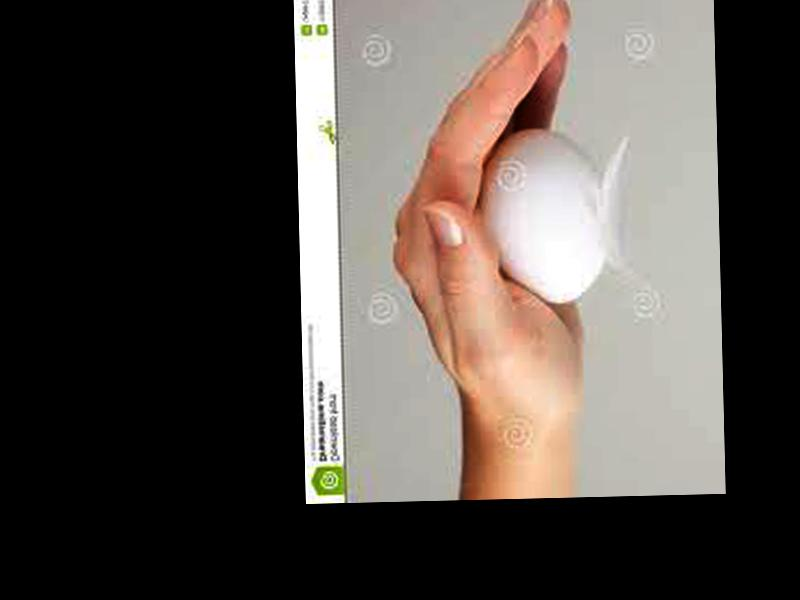Eggs: (479, 124, 605, 306)
